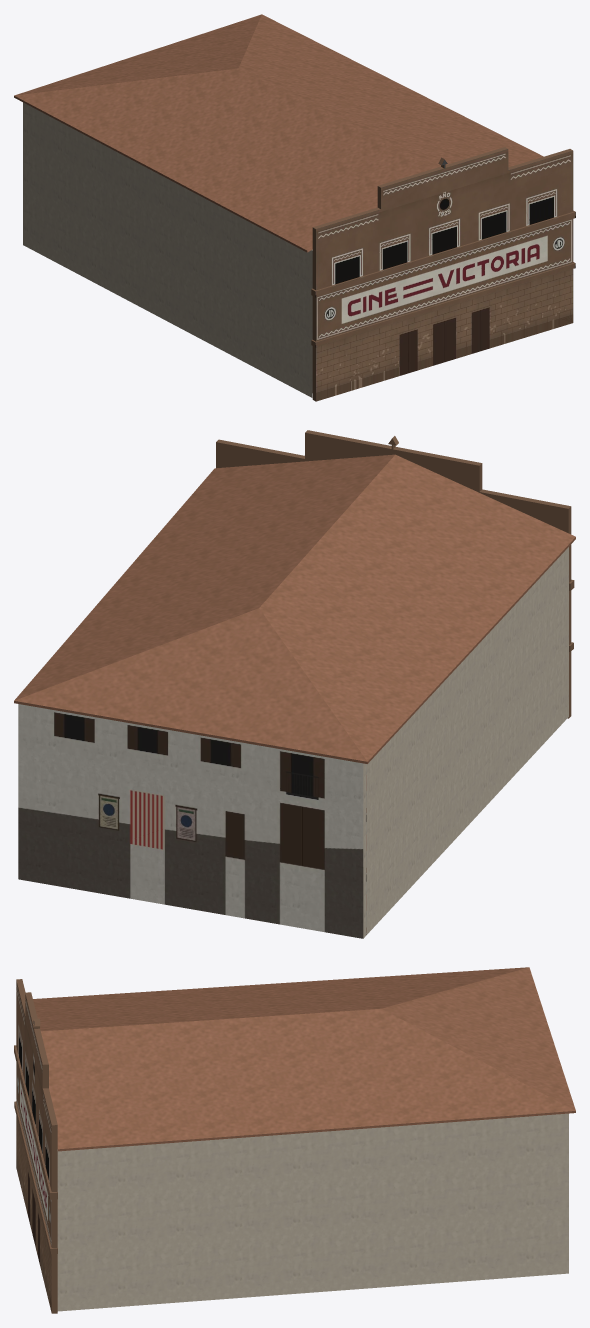
Rendered from cine_victoria.glb.
The picture shows the model from 3 angles, top to bottom: view 1: azimuth 30°, elevation 25°; view 2: azimuth 150°, elevation 25°; view 3: azimuth 270°, elevation 25°; orthographic projection. The views are drawn at different scales.
Visible parts, largest first — view 1: CineVictoria_Base_cubierta, CineVictoria_Base, CineVictoria_Base_muros; view 2: CineVictoria_Base_cubierta, CineVictoria_Base_norte, CineVictoria_Base_muros, CineVictoria_Base; view 3: CineVictoria_Base_muros, CineVictoria_Base_cubierta, CineVictoria_Base.
Boxes of the visible parts, box(x1,y1,x2,y2) form: CineVictoria_Base_cubierta: box(14, 14, 543, 252); CineVictoria_Base: box(311, 147, 575, 401); CineVictoria_Base_muros: box(23, 102, 312, 397); CineVictoria_Base_cubierta: box(14, 454, 575, 763); CineVictoria_Base_norte: box(18, 704, 366, 938); CineVictoria_Base_muros: box(363, 547, 568, 938); CineVictoria_Base: box(216, 430, 574, 718); CineVictoria_Base_muros: box(57, 1113, 568, 1311); CineVictoria_Base_cubierta: box(33, 967, 575, 1151); CineVictoria_Base: box(14, 979, 57, 1313).
Bounding box in the file's own units: 21.92 × 12.41 × 28.48.
5 materials, 4 textured.
